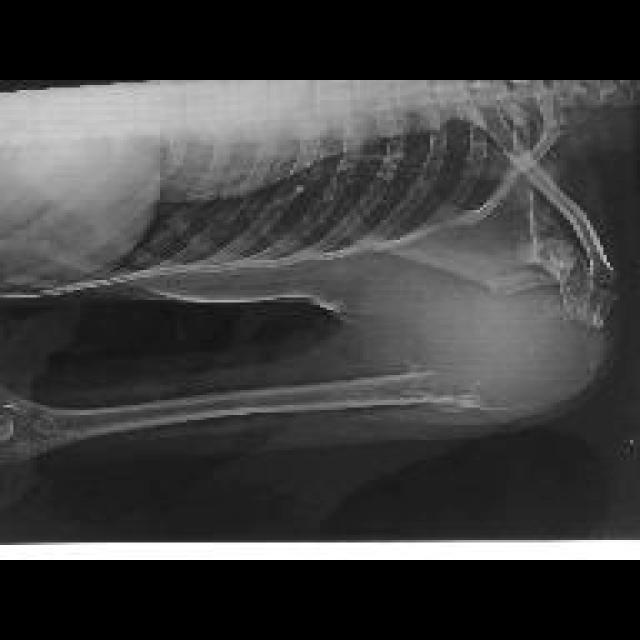bone-cancer: (380, 242, 612, 434)
